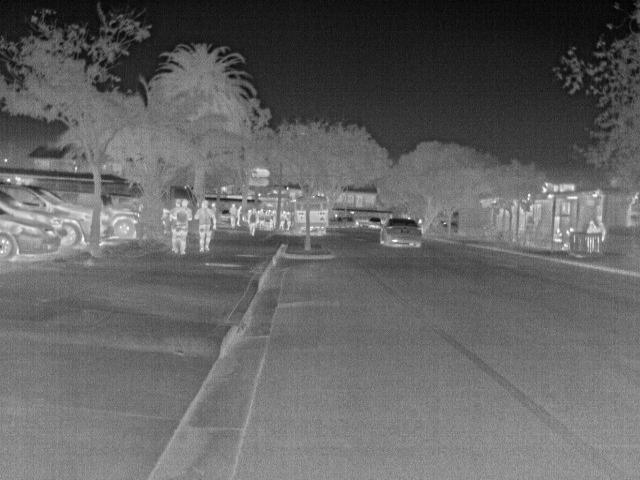car: (1, 182, 97, 252), (2, 206, 61, 266), (101, 205, 144, 240), (376, 218, 422, 250), (334, 213, 363, 228), (368, 214, 385, 228), (219, 207, 234, 222)
person: (168, 199, 194, 254), (194, 200, 218, 255), (247, 206, 262, 236), (231, 200, 244, 230), (553, 226, 567, 244), (587, 220, 603, 234)
